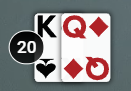k: (33, 13, 62, 42)
q: (60, 13, 89, 43)
